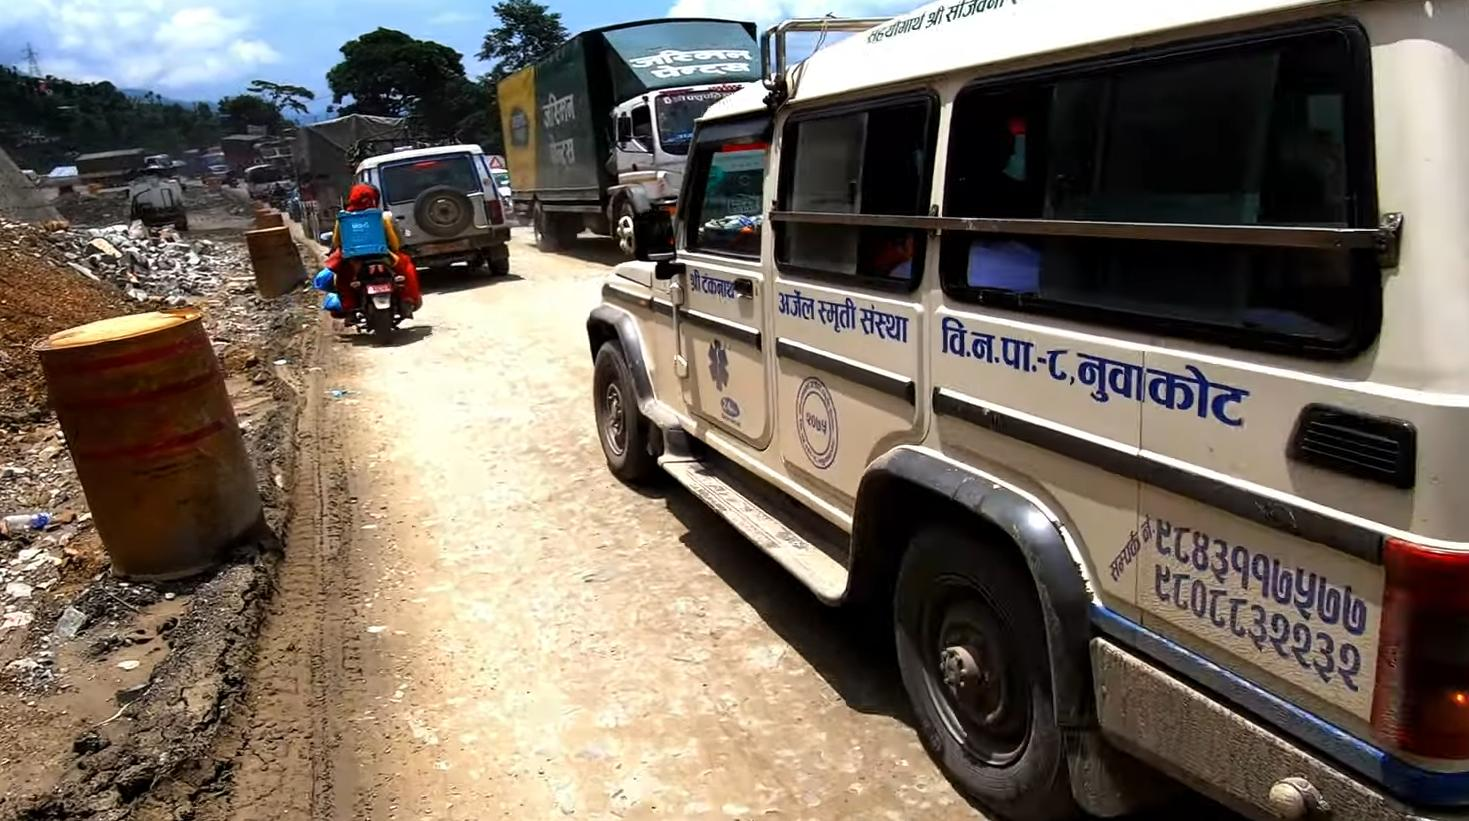ambulance: (577, 2, 1469, 821)
bike: (321, 211, 415, 346)
truck: (495, 12, 792, 265), (218, 127, 303, 185)
